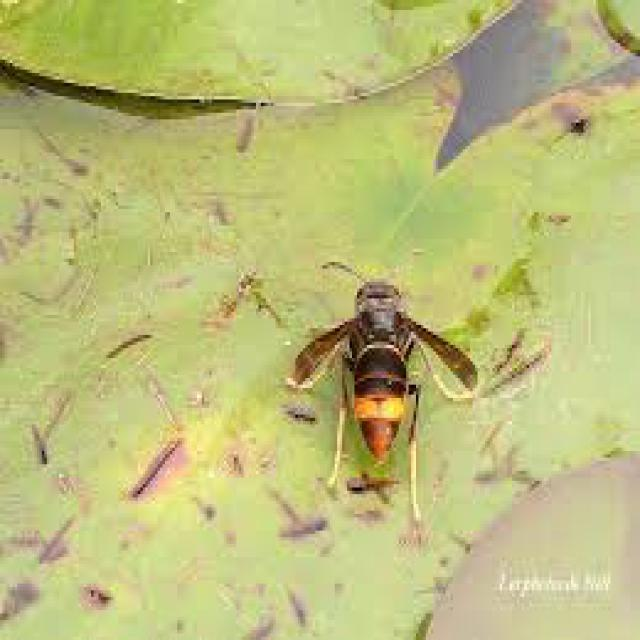Vespa Velutina: (289, 248, 483, 530)
